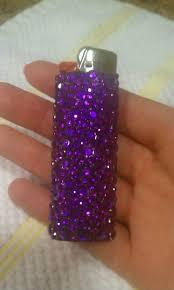lighter: (52, 45, 117, 243)
